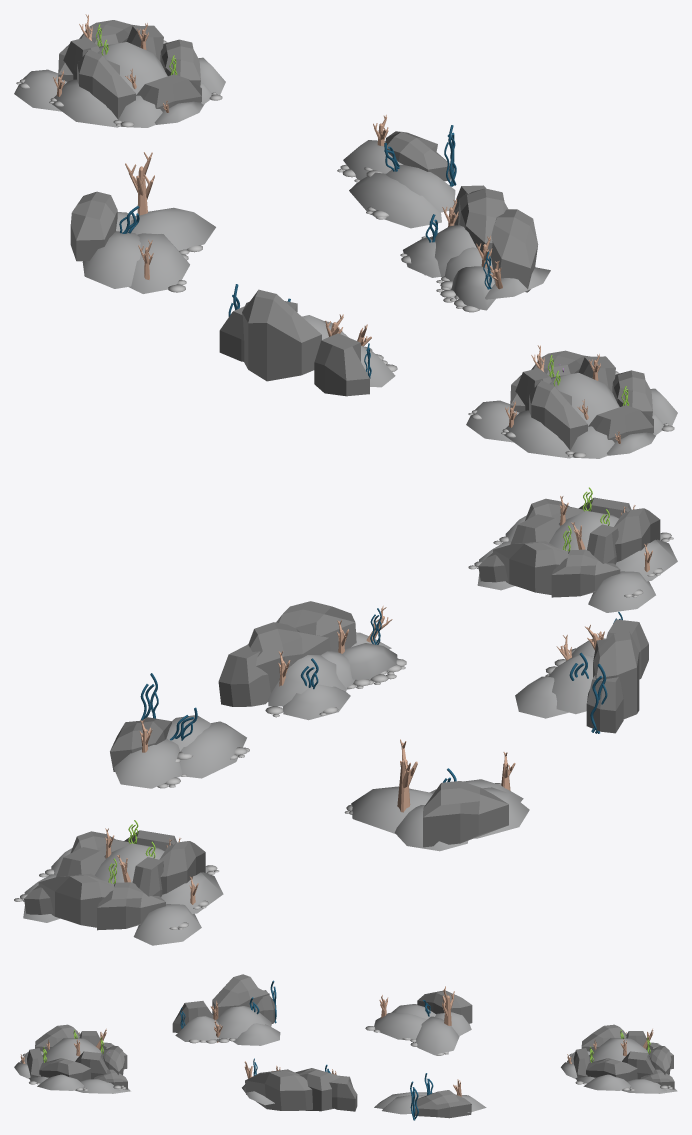
File: BottomOfDream_1 1.fbx
3 renders of one model, top to bottom at view 1: azimuth 30°, elevation 25°; view 2: azimuth 150°, elevation 25°; view 3: azimuth 270°, elevation 25°, orthographic. The views are drawn at different scales.
Visible parts, largest first — view 1: Underwater Scene.263, Underwater Scene.490, Underwater Scene.048, Underwater Scene.039, Underwater Scene.040, Underwater Scene.045; view 2: Underwater Scene.263, Underwater Scene.490, Underwater Scene.048, Underwater Scene.040, Underwater Scene.039, Underwater Scene.045; view 3: Underwater Scene.263, Underwater Scene.490, Underwater Scene.039, Underwater Scene.040, Underwater Scene.048, Underwater Scene.045.
Boxes of the visible parts, x1,y1,x2,y2 form: Underwater Scene.263: [466, 345, 677, 458]; Underwater Scene.490: [14, 14, 225, 127]; Underwater Scene.048: [400, 185, 550, 312]; Underwater Scene.039: [219, 284, 397, 396]; Underwater Scene.040: [70, 152, 215, 293]; Underwater Scene.045: [337, 114, 456, 228]; Underwater Scene.263: [468, 487, 677, 612]; Underwater Scene.490: [14, 820, 223, 945]; Underwater Scene.048: [218, 601, 406, 720]; Underwater Scene.040: [344, 739, 529, 851]; Underwater Scene.039: [515, 612, 648, 733]; Underwater Scene.045: [110, 673, 249, 788]; Underwater Scene.263: [14, 1024, 130, 1093]; Underwater Scene.490: [561, 1024, 677, 1093]; Underwater Scene.039: [172, 974, 280, 1045]; Underwater Scene.040: [365, 986, 472, 1055]; Underwater Scene.048: [242, 1058, 357, 1111]; Underwater Scene.045: [374, 1073, 486, 1120].
Size of the model in its own units: 2758 by 633 by 7031.
